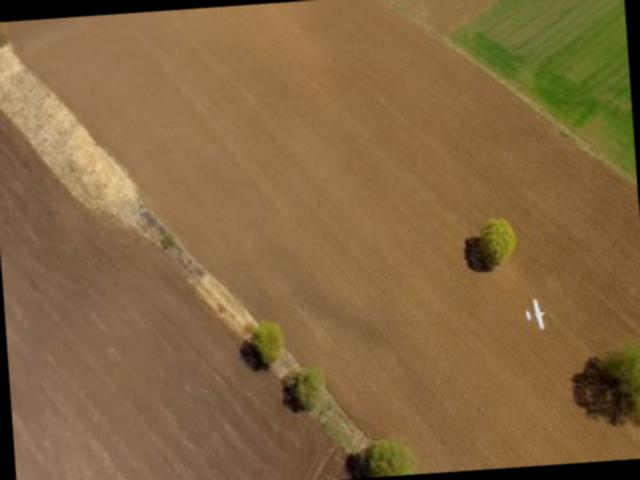uav: (520, 292, 554, 335)
